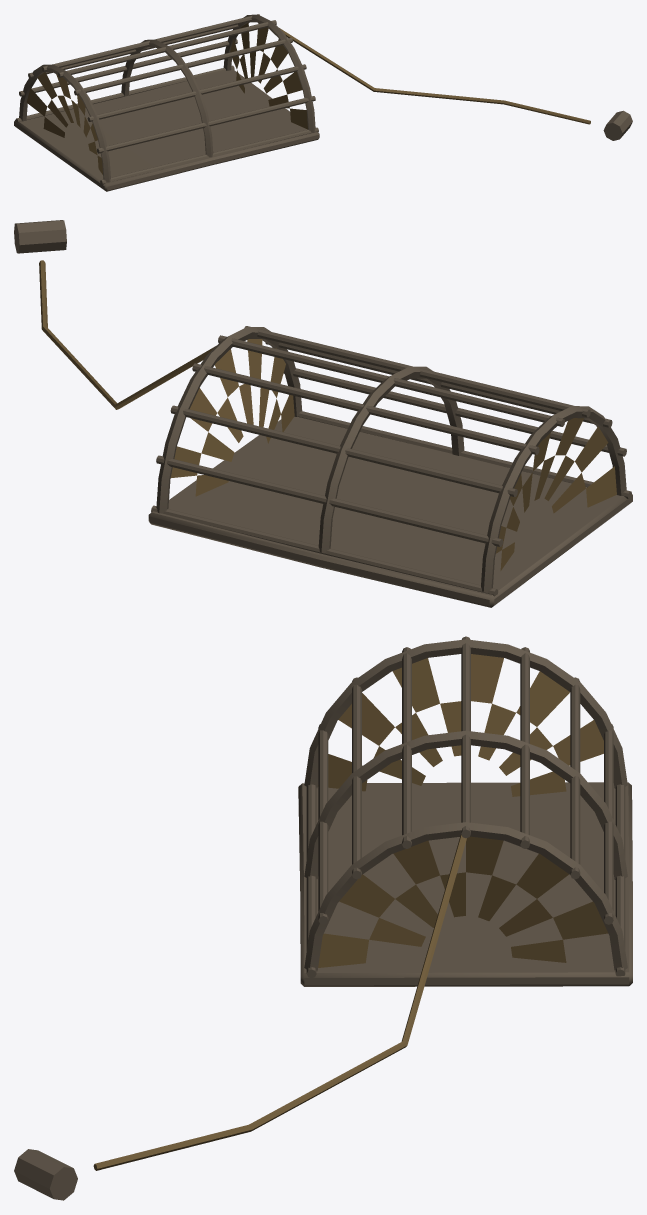
File: hummerkorb.glb
The picture shows the model from 3 angles, top to bottom: view 1: azimuth 30°, elevation 25°; view 2: azimuth 150°, elevation 25°; view 3: azimuth 270°, elevation 25°; orthographic projection. The views are drawn at different scales.
Parts seen in each view (by area): view 1: hummerkorb; view 2: hummerkorb; view 3: hummerkorb.
Part boxes in pixels (box(x1,y1,x2,y2)): hummerkorb: box(14, 14, 632, 191); hummerkorb: box(14, 220, 632, 607); hummerkorb: box(14, 636, 632, 1200).
Size of the model in its own units: 1.58 by 0.2897 by 1.
